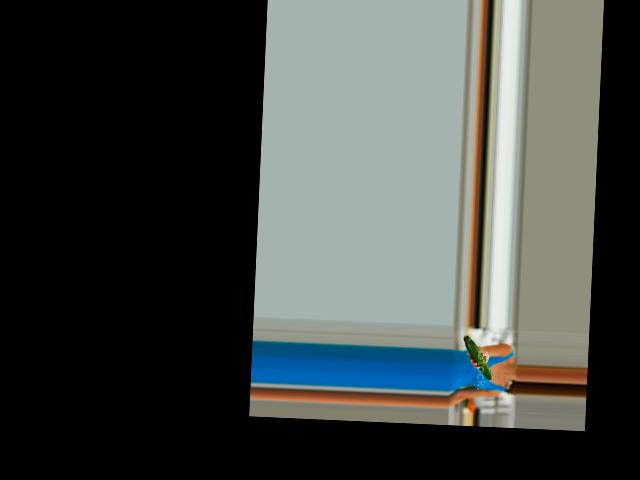cucumber: (461, 335, 494, 380)
